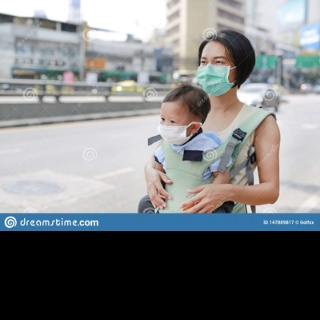with_mask: (196, 54, 235, 97), (156, 112, 192, 145)
